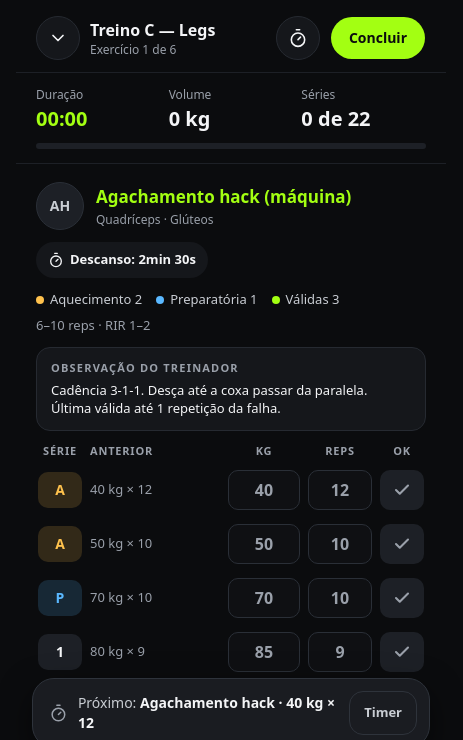
Test case: Treino em andamento › usa a carga digitada, marca recorde e ajusta o descanso em 15 s
The width and height of the screenshot is (463, 740).
Expected: the heading "Treino C — Legs" is shown, [90,19,215,41]
Type "87,5" into the field named "Carga da série válida 1, em kg" at (264, 652), box [228,632,300,672]
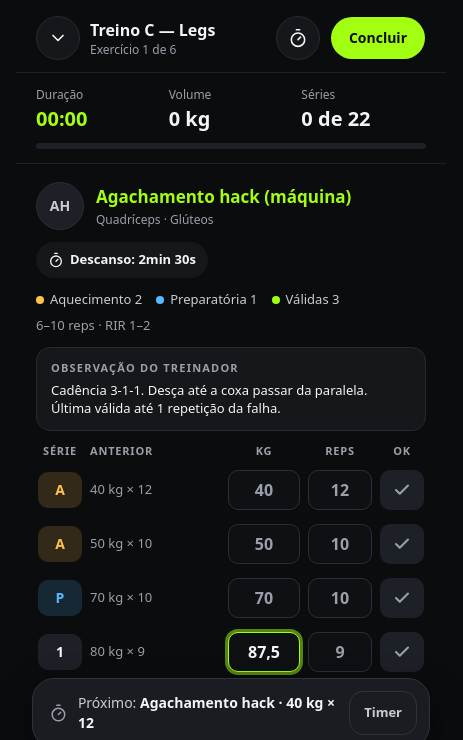
Press Tab
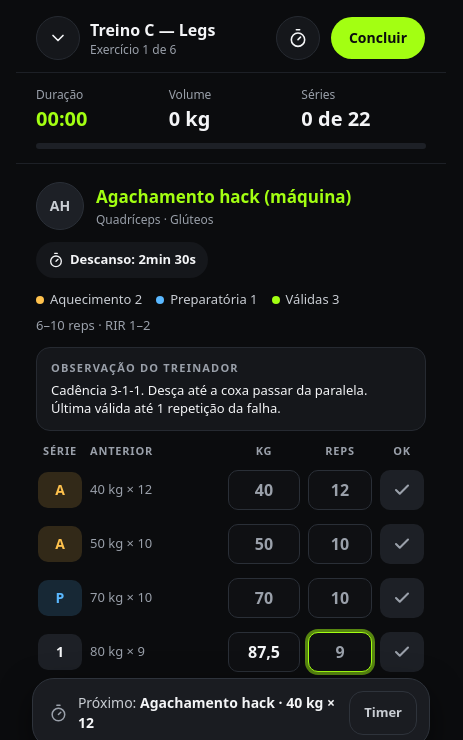
Click the button named "Concluir série válida 1" at (402, 652), box [380,632,424,672]
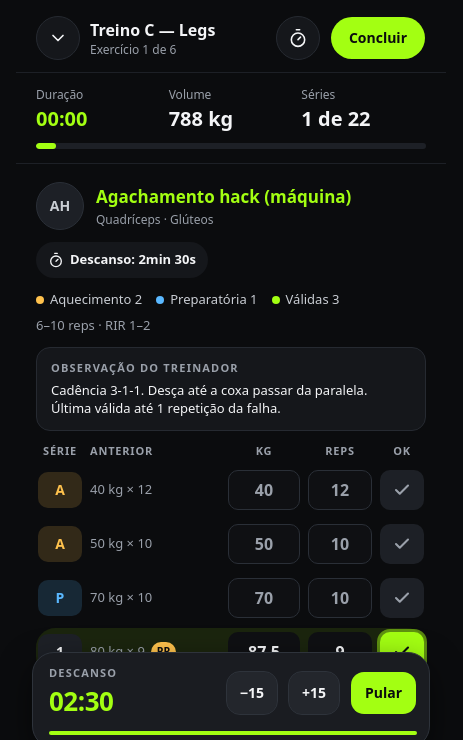
Expected: the text titled "Recorde pessoal" is shown, [157,644,170,660]
Result: the text "02:30" is shown at [49,682,113,721]
Click the button named "Aumentar 15 segundos" at (314, 693), box [288,671,340,715]
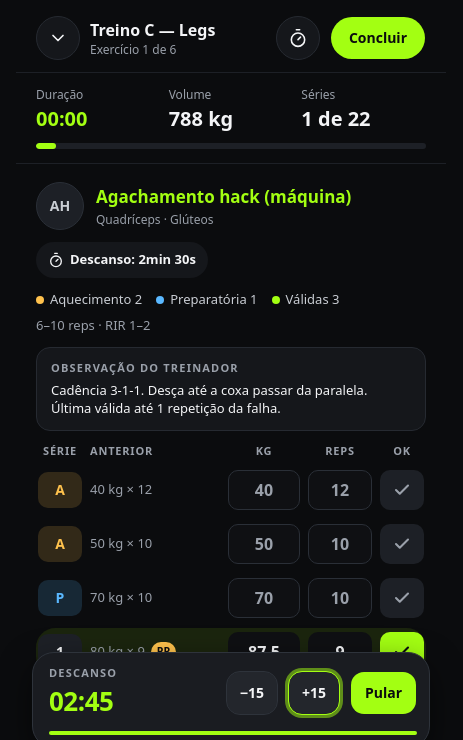
Result: the text "02:45" is shown at [49,682,113,721]
